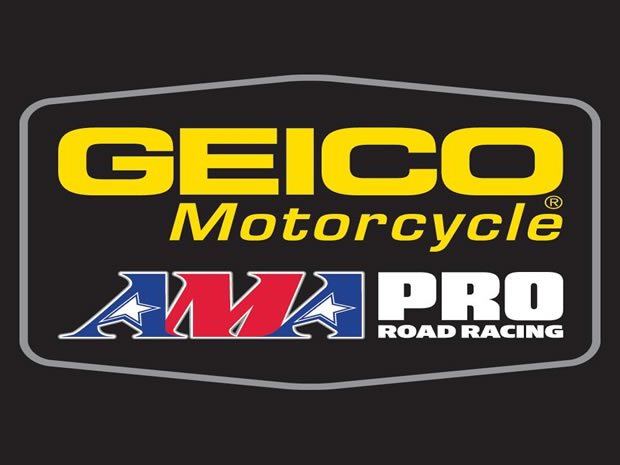Geico: (59, 124, 566, 199)
